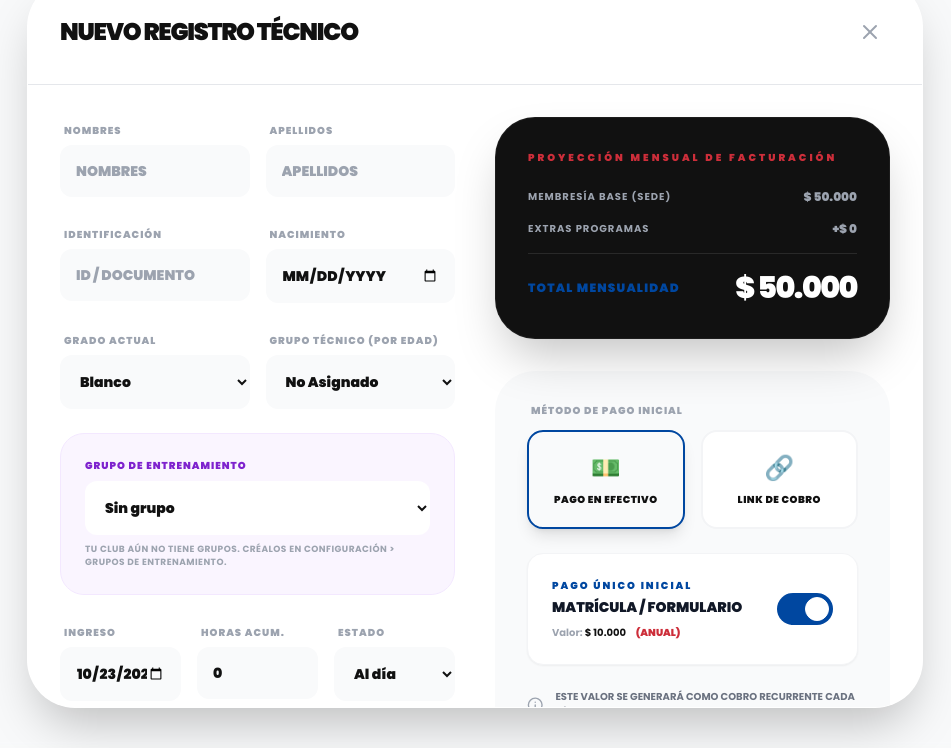
Test: FormularioEstudiante › restablece el grupo cuando la fecha de nacimiento queda vacía
The image size is (951, 748).
Type "2010-01-01" into the date field labelled "Nacimiento". click: (360, 276)
box: [266,248,455,302]
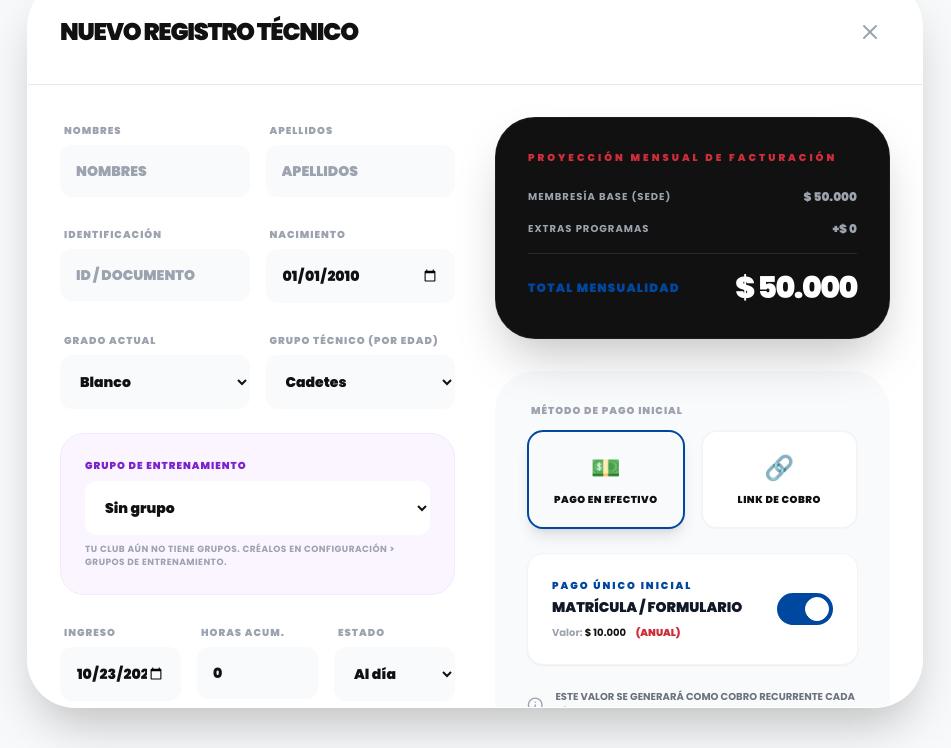
Clear the date field labelled "Nacimiento". click: (360, 276)
box: [266,248,455,302]
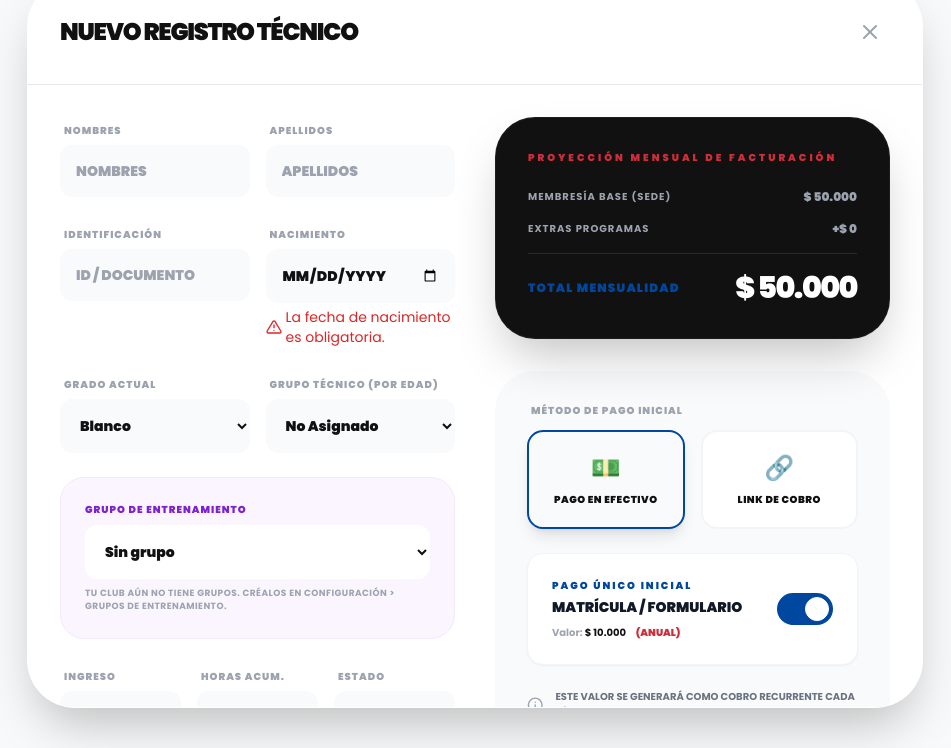
Expected: the dropdown labelled "Grupo Técnico (por edad)" shows "No Asignado", [266,398,455,452]
